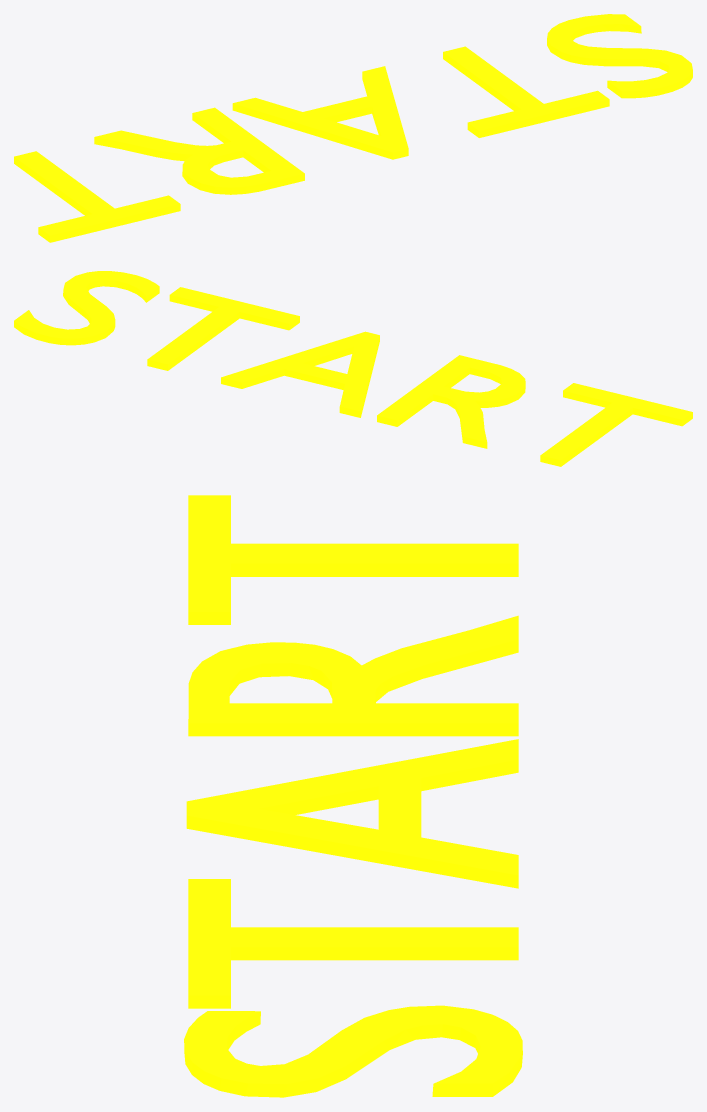
The model's file is Start.fbx.
The picture shows the model from 3 angles, top to bottom: view 1: azimuth 30°, elevation 25°; view 2: azimuth 150°, elevation 25°; view 3: azimuth 270°, elevation 25°; orthographic projection. The views are drawn at different scales.
Visible parts, largest first — view 1: Start; view 2: Start; view 3: Start.
Part boxes in pixels (x1,y1,x2,y2): Start: (14,14,692,242); Start: (14,271,692,466); Start: (184,495,522,1097).
Bounding box in the file's own units: 1684 × 17.55 × 409.
